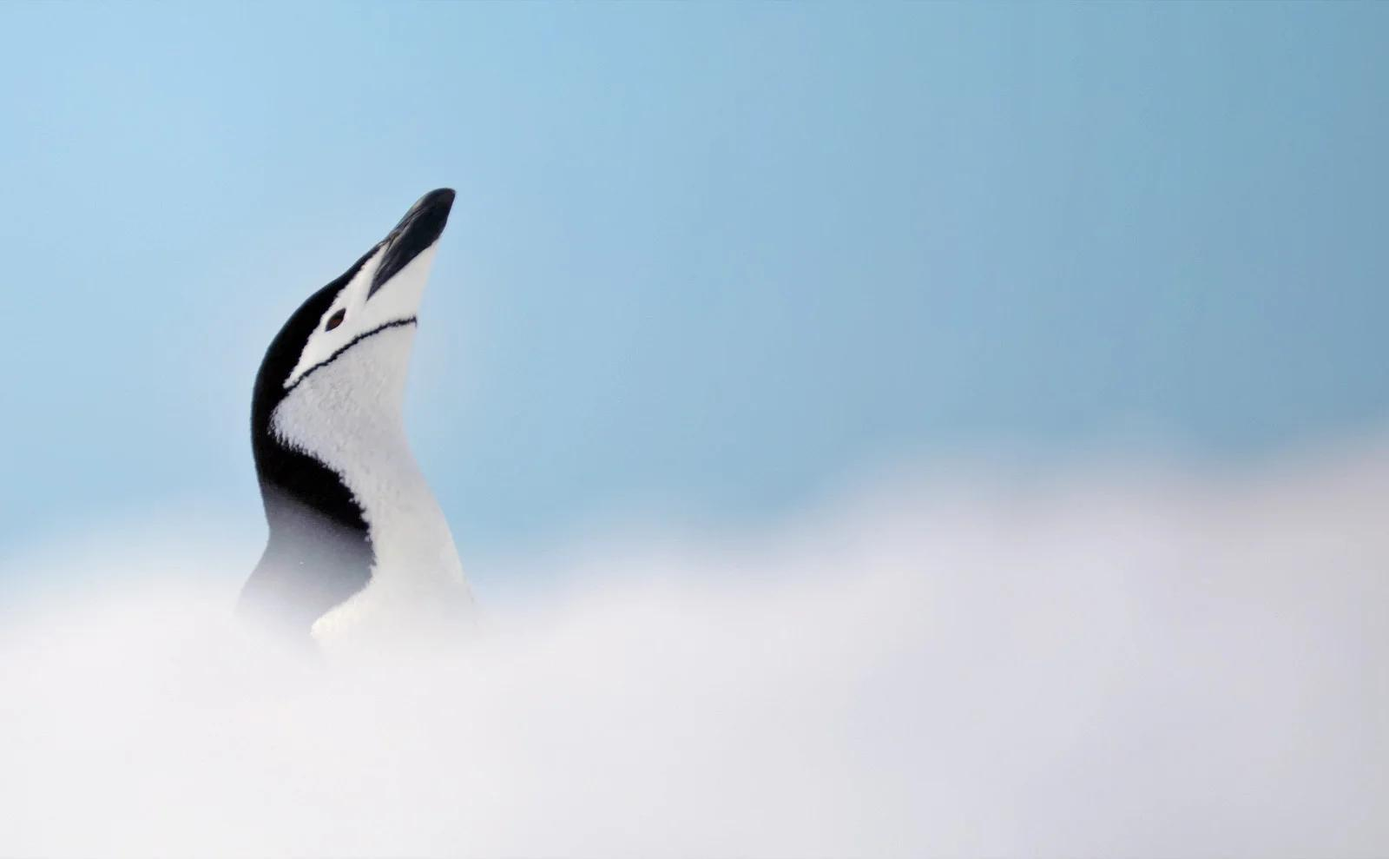Penguin: (239, 190, 474, 646)
